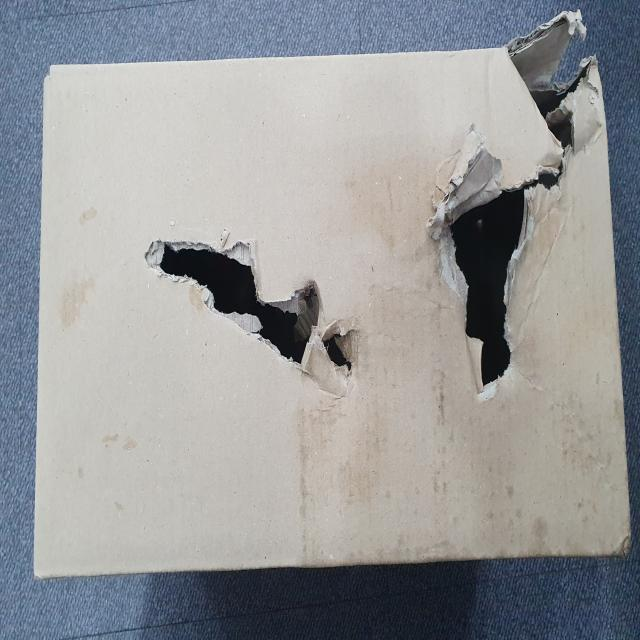hole: (148, 223, 362, 406), (420, 147, 574, 401), (512, 51, 600, 151)
